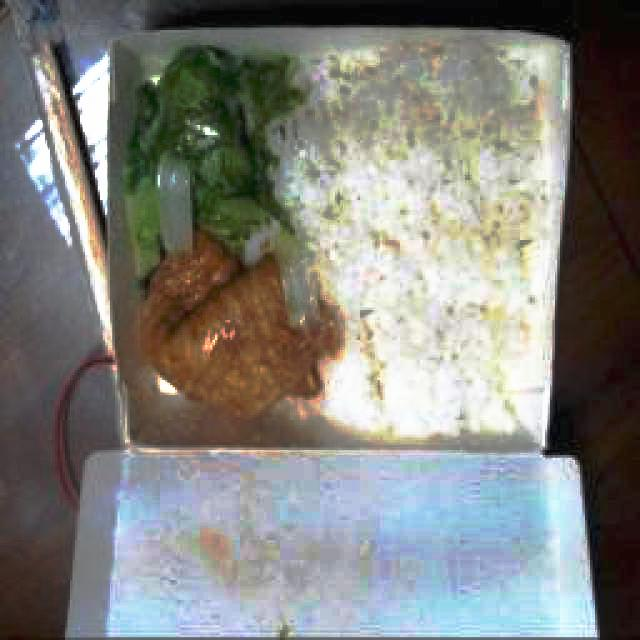rice: (308, 59, 530, 446)
water_spinach: (130, 52, 290, 251)
